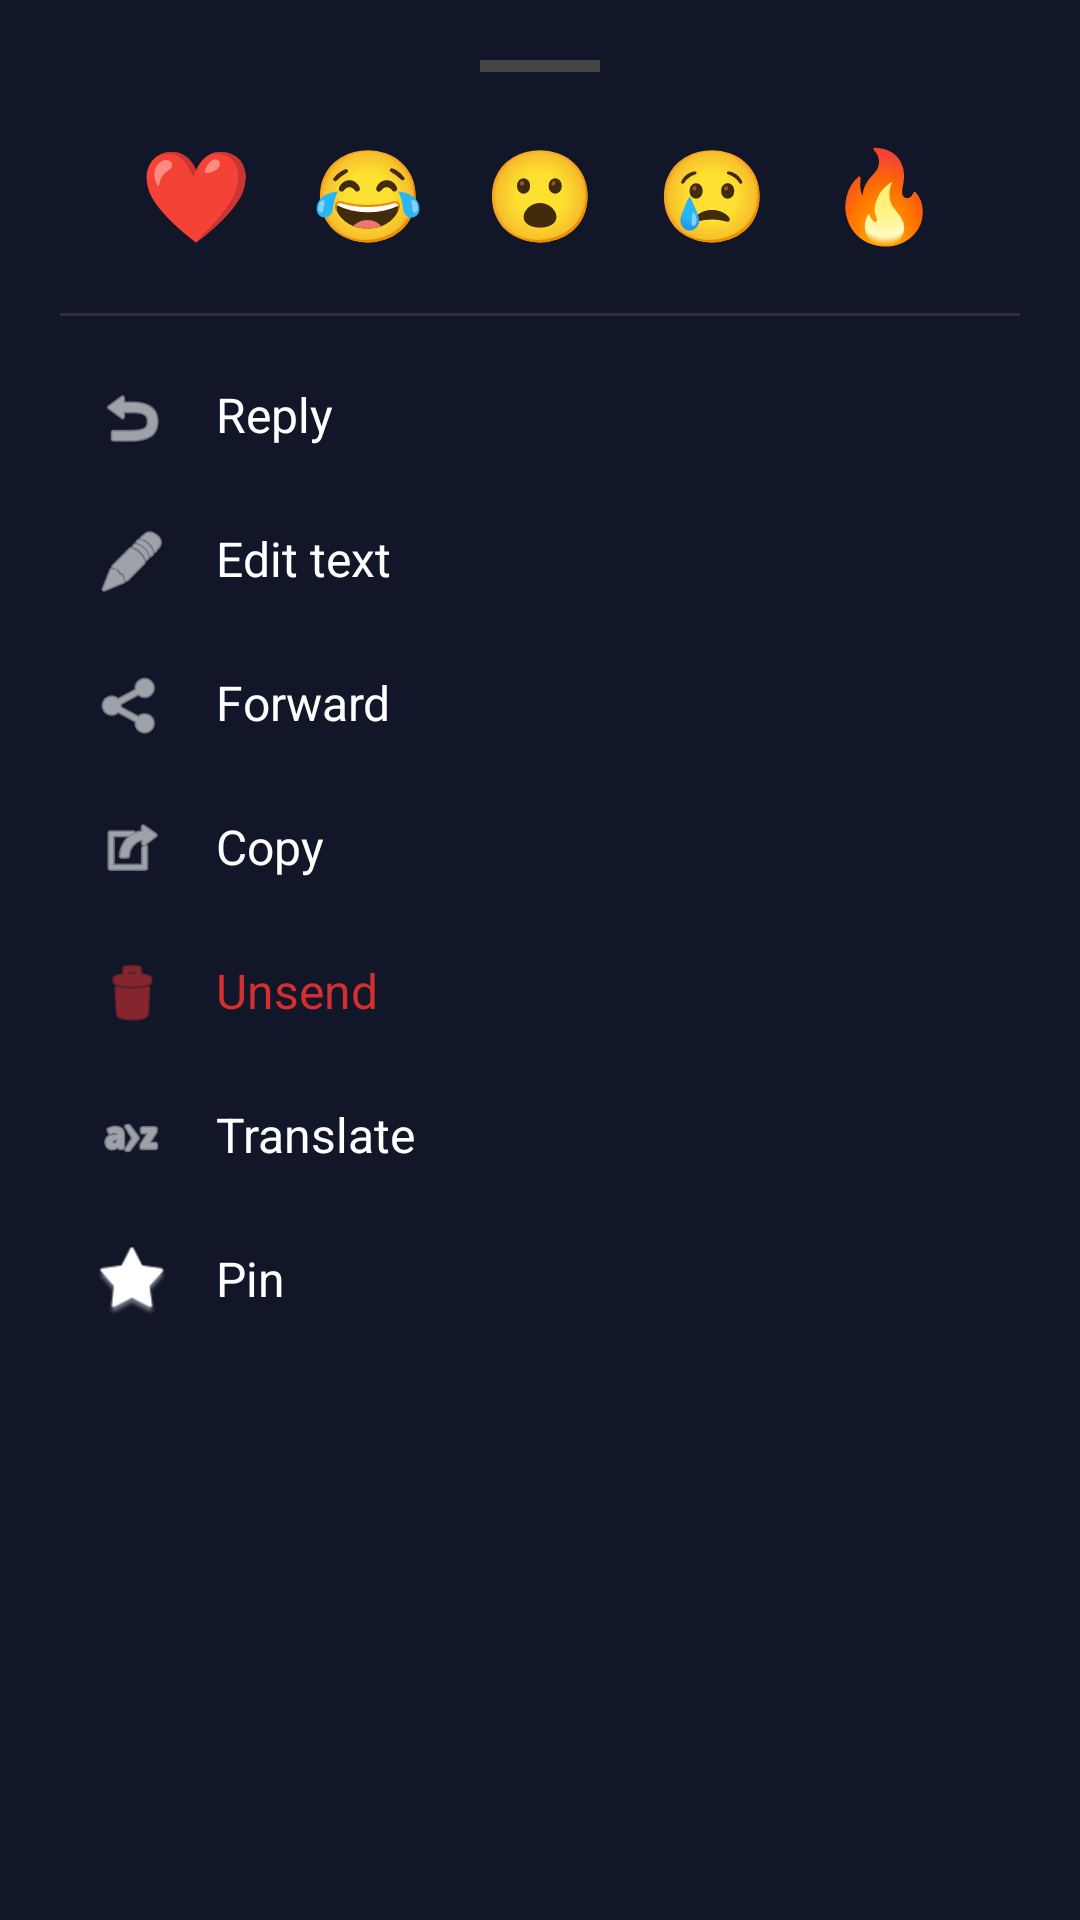

Where icons sit on this 1080 × 1920 app screen, as (x1, y1, x2, y2):
delete: (112, 965, 153, 1021)
revert: (107, 395, 159, 442)
set as: (107, 824, 158, 871)
share: (101, 677, 155, 734)
sort alphabetically: (104, 1124, 158, 1152)
star on: (100, 1247, 164, 1312)
